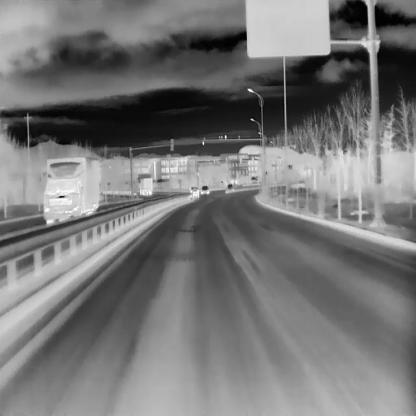car: (43, 156, 100, 223), (138, 177, 153, 195), (187, 186, 198, 196), (200, 185, 209, 193)
